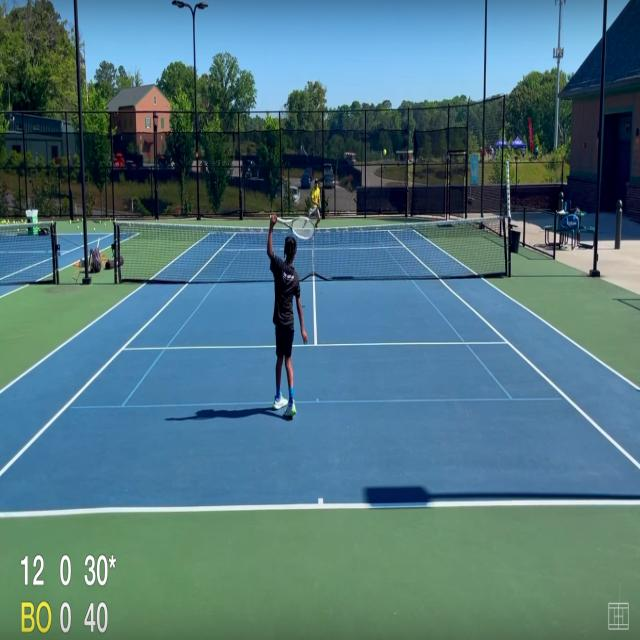ball: (383, 148, 387, 156)
